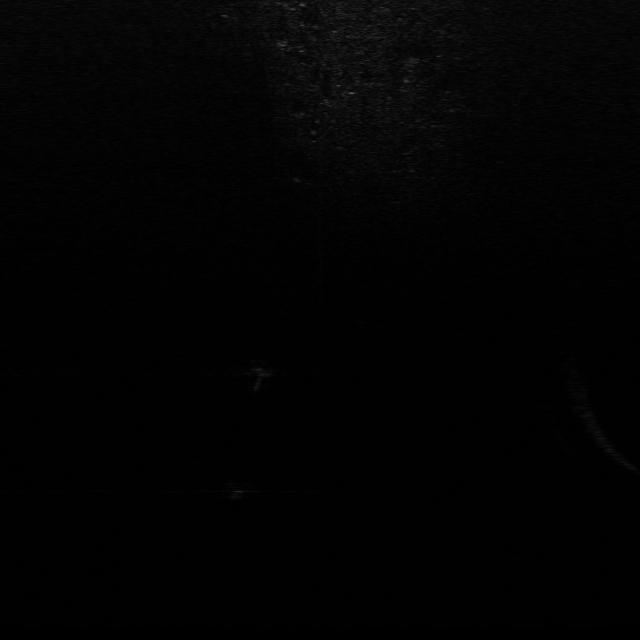cube: (220, 478, 252, 502)
square cage: (242, 355, 277, 378)
